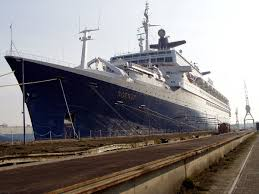tau_dansu: (7, 23, 232, 134)
